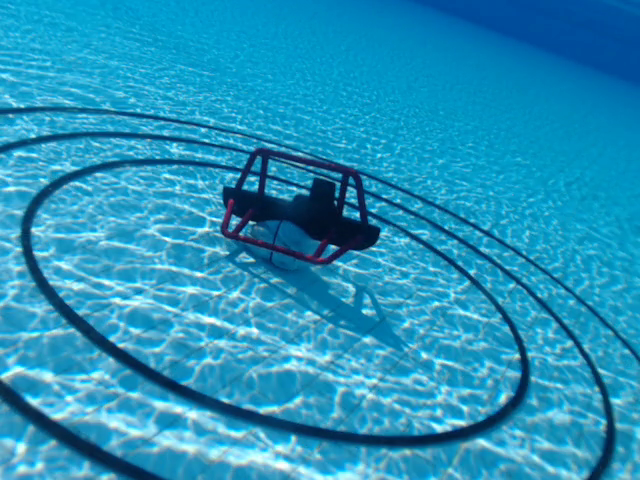submarine: (218, 146, 382, 274)
